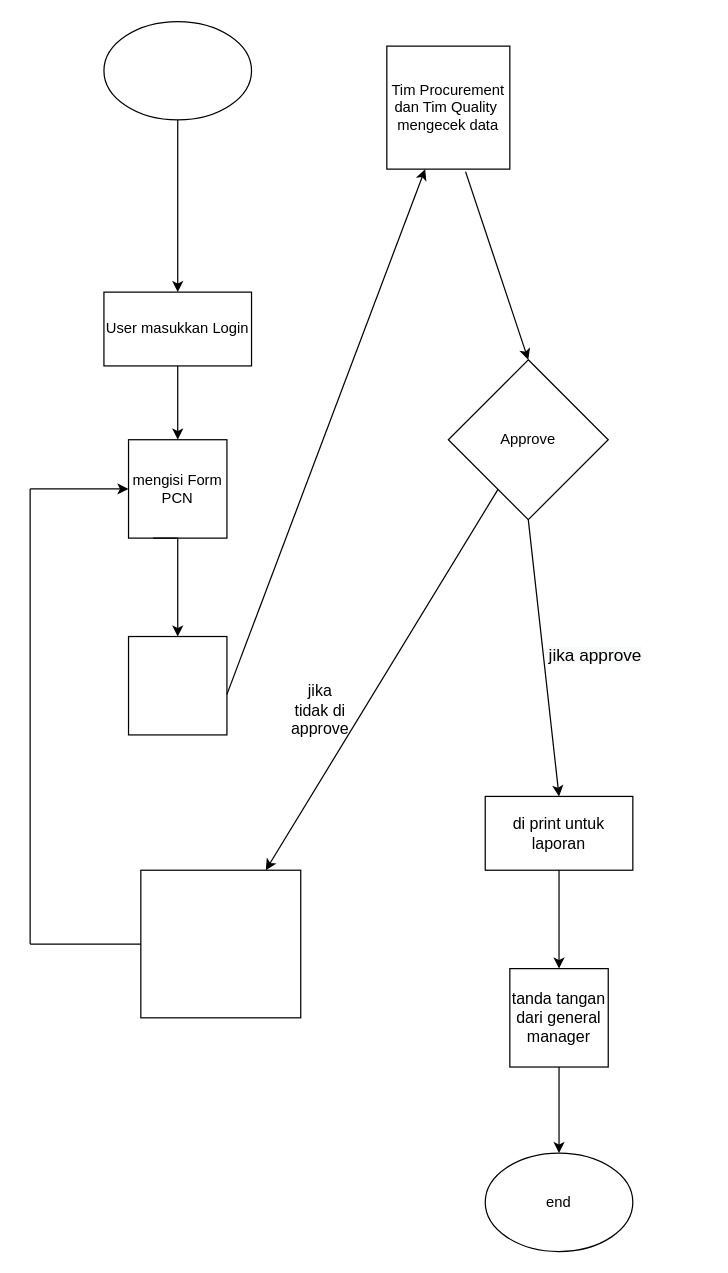
Some shapes in this 728 by 1273 pixel diagram are drawn without their labels. Each missing label, with the centre of its shape:
"data terisi" belongs at point 177,685.
"dikirim ke email supplier untuk mengisi data belum terisi" belongs at point 220,943.
"start" belongs at point 177,70.
